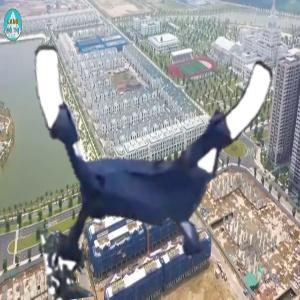drone: (29, 27, 288, 286)
